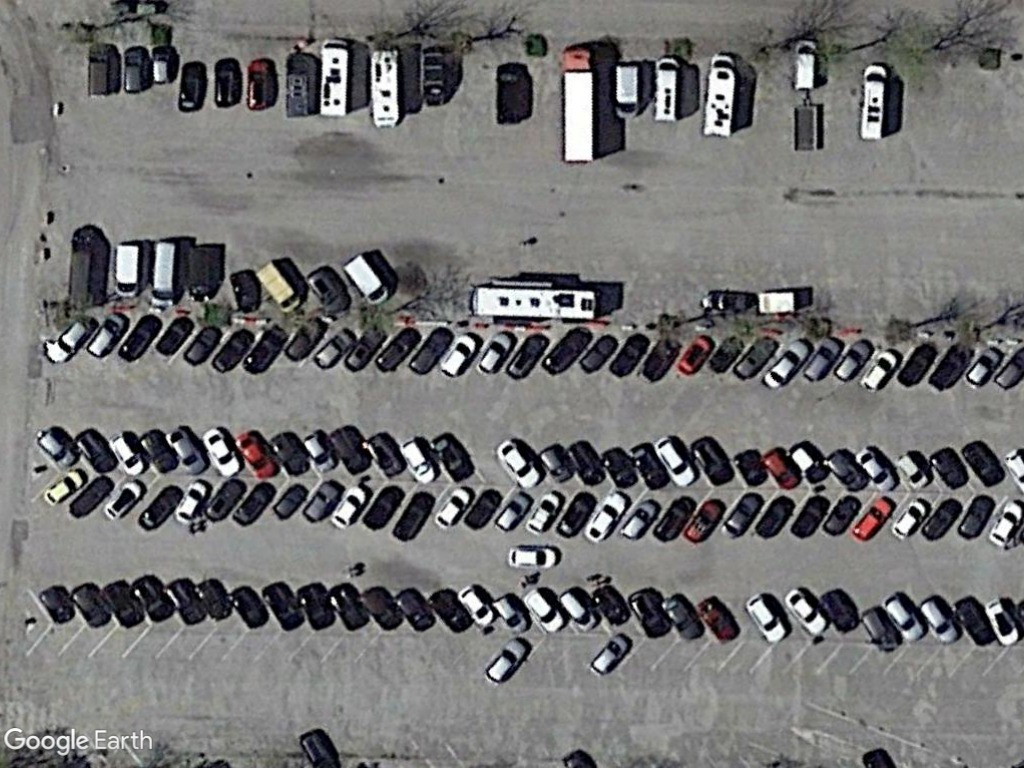bus: (469, 279, 604, 323), (366, 36, 403, 131), (319, 36, 351, 120)
car: (759, 338, 813, 391), (452, 579, 503, 634), (742, 591, 792, 646), (482, 637, 534, 689), (913, 594, 962, 648), (582, 488, 627, 546), (780, 586, 829, 639), (879, 590, 927, 644), (197, 423, 242, 477), (495, 437, 540, 491), (46, 317, 95, 366), (798, 336, 848, 384), (586, 627, 633, 678), (651, 436, 697, 488), (849, 493, 899, 540), (684, 494, 727, 548), (161, 426, 206, 477), (860, 603, 905, 654), (84, 310, 128, 362), (326, 481, 373, 529), (851, 444, 897, 493), (827, 338, 877, 383), (236, 425, 278, 477), (858, 347, 905, 393), (961, 344, 1007, 391), (520, 587, 565, 635), (719, 493, 764, 541), (523, 486, 567, 535), (430, 482, 476, 528), (302, 476, 347, 523), (311, 327, 359, 371), (34, 426, 78, 474), (396, 434, 438, 484), (476, 330, 519, 377), (557, 587, 600, 634), (987, 495, 1024, 549), (983, 596, 1022, 647), (618, 497, 662, 542), (492, 485, 536, 530), (41, 468, 89, 509), (437, 333, 480, 378), (104, 431, 146, 477), (889, 498, 932, 542), (102, 478, 147, 519), (760, 443, 800, 489), (492, 591, 532, 637), (504, 541, 562, 572), (298, 429, 339, 472), (170, 478, 210, 522), (894, 445, 933, 489), (677, 335, 716, 377), (794, 38, 819, 94), (121, 46, 147, 98), (149, 43, 174, 88)
longvehicle: (560, 47, 599, 167)
van: (701, 53, 736, 139), (252, 258, 304, 314), (341, 253, 390, 307), (857, 62, 888, 146), (148, 236, 176, 311), (652, 54, 681, 126), (112, 239, 143, 303), (613, 62, 641, 124)
